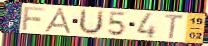4: (135, 12, 159, 40)
5: (107, 10, 130, 37)
A: (42, 7, 75, 35)
F: (21, 6, 47, 32)
T: (163, 13, 186, 41)
U: (77, 8, 105, 36)
